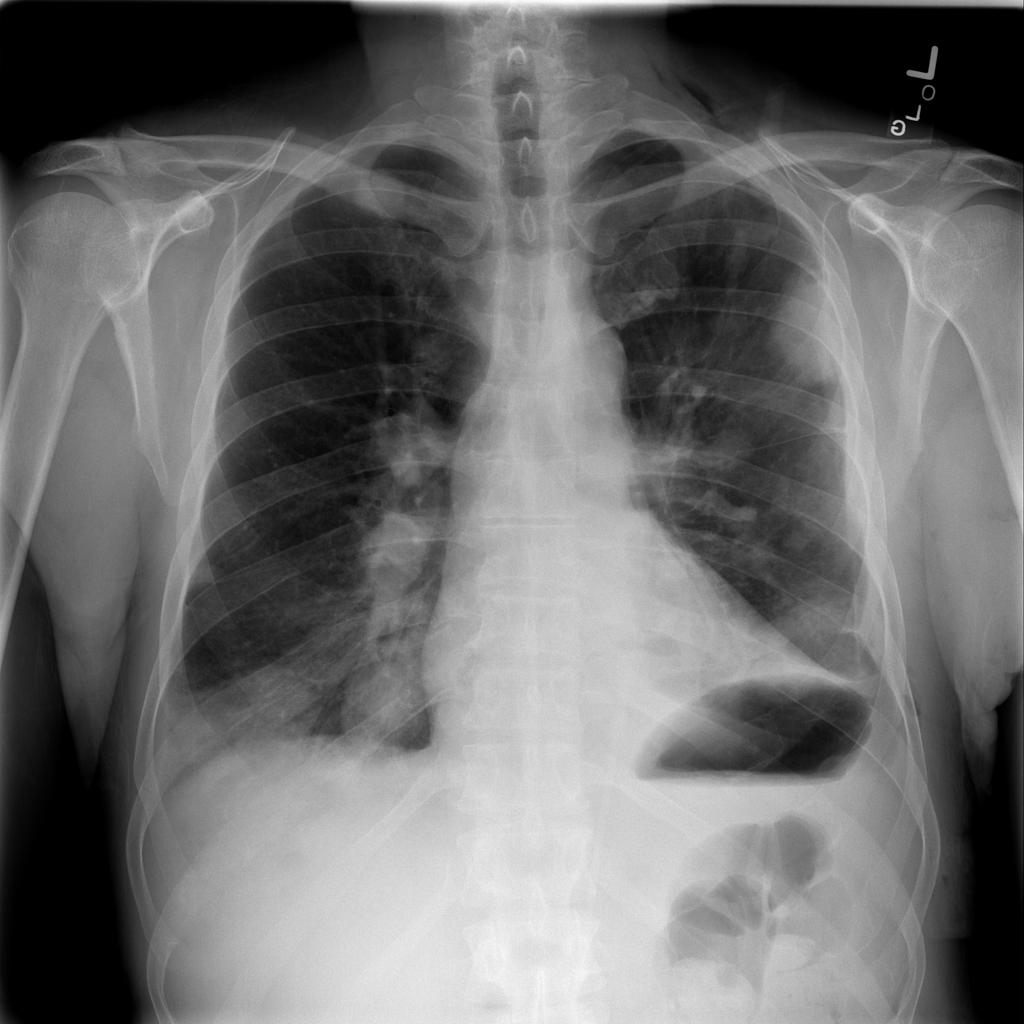nodule: (757, 255, 868, 389), (333, 491, 450, 606), (361, 384, 472, 490), (332, 652, 446, 752), (392, 322, 472, 389), (693, 412, 764, 484), (177, 545, 230, 596), (642, 549, 699, 595), (772, 513, 828, 559), (715, 495, 771, 540)
